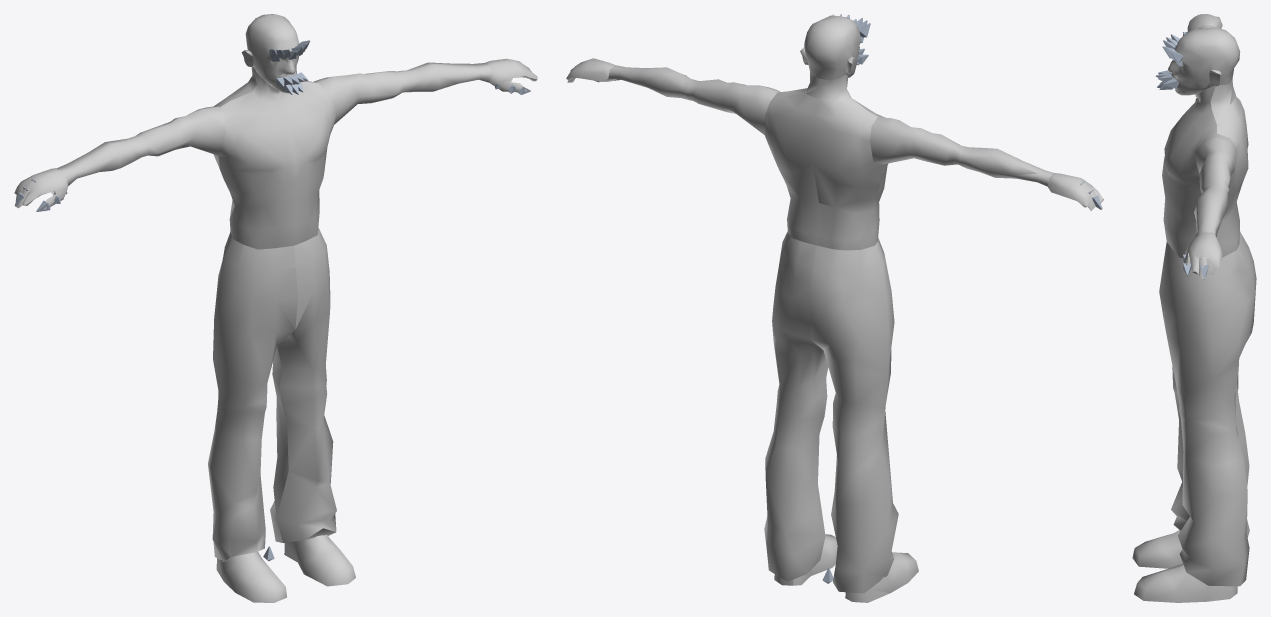
Rendered from CarlJohnson-GTASA.obj.
3 renders of one model, left to right at view 1: azimuth 30°, elevation 25°; view 2: azimuth 150°, elevation 25°; view 3: azimuth 270°, elevation 25°, orthographic. The views are drawn at different scales.
Parts seen in each view (by area): view 1: Object001; view 2: Object001; view 3: Object001.
Boxes of the visible parts, box(x1,y1,x2,y2) form: Object001: box(14, 14, 537, 602); Object001: box(566, 15, 1103, 602); Object001: box(1132, 14, 1256, 602).
Bounding box in the file's own units: 71.17 × 71.7 × 14.75.
